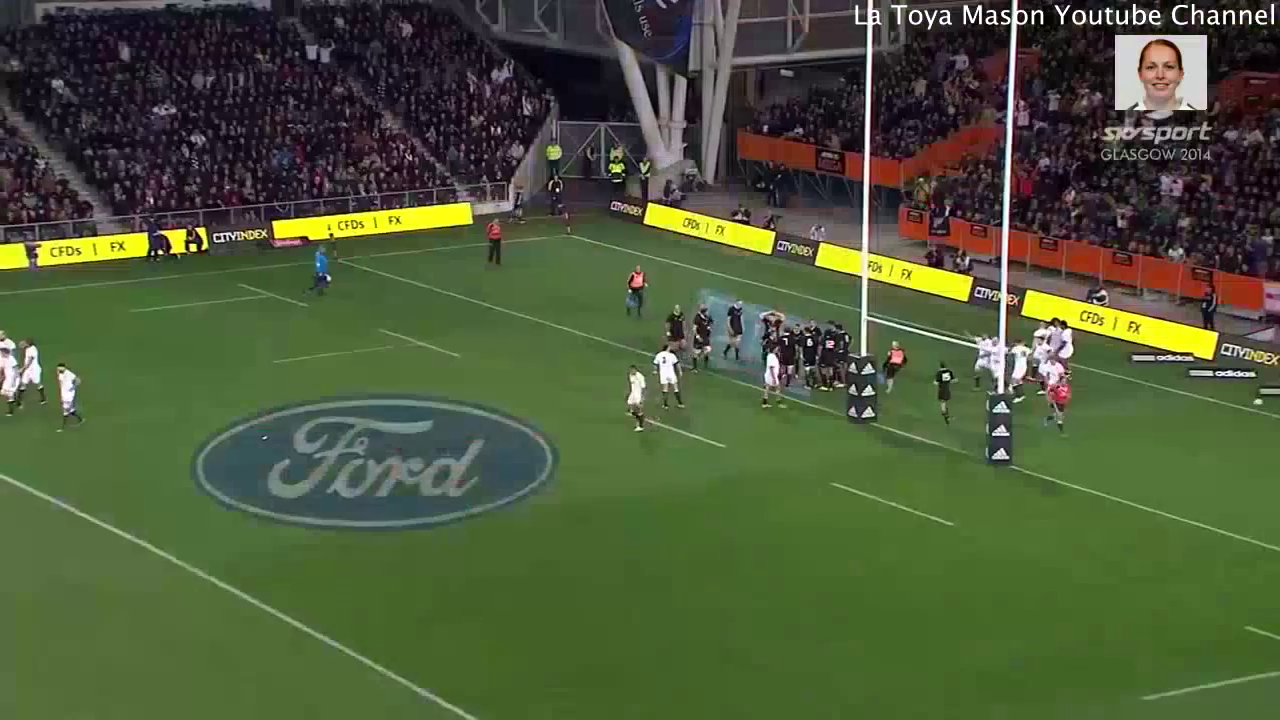player: (47, 358, 100, 437), (646, 337, 690, 416), (14, 328, 52, 415), (756, 343, 793, 418), (295, 233, 335, 299), (927, 359, 963, 432), (686, 297, 718, 377), (659, 295, 693, 368), (621, 358, 652, 437), (618, 261, 655, 323), (1044, 371, 1076, 441), (877, 335, 911, 398), (719, 294, 748, 364), (960, 324, 988, 390), (1007, 330, 1030, 407), (795, 324, 821, 392), (479, 212, 509, 268), (1036, 355, 1077, 395), (818, 326, 841, 397), (774, 321, 798, 389), (1, 341, 20, 424), (1058, 315, 1080, 375), (833, 319, 856, 366), (985, 330, 1003, 389), (1044, 313, 1067, 358), (757, 307, 782, 344), (1026, 333, 1055, 359), (1, 326, 20, 357), (1032, 315, 1052, 343), (788, 317, 801, 339)
post: (841, 1, 1040, 492)
